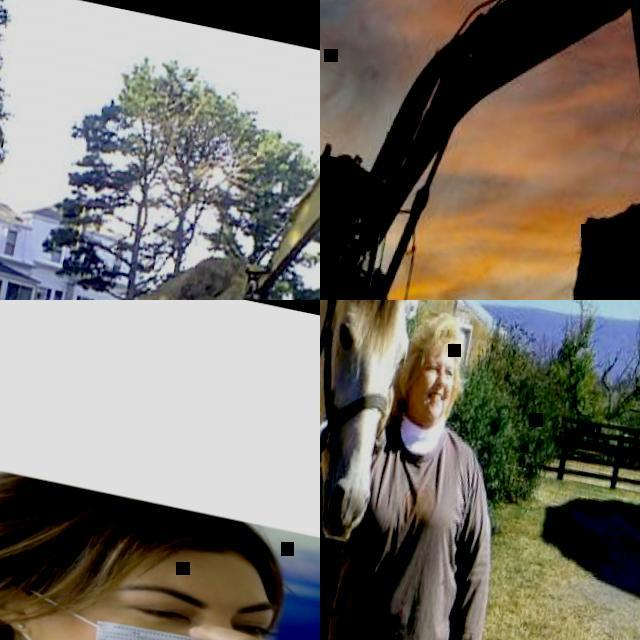machinery: (320, 0, 640, 300), (194, 37, 320, 300)
mask: (0, 586, 270, 640)
no_helmet: (0, 462, 291, 596), (413, 308, 470, 364)
no_mask: (408, 377, 450, 424)
no_vest: (320, 418, 489, 640)
person: (320, 300, 542, 640), (0, 443, 320, 640)
